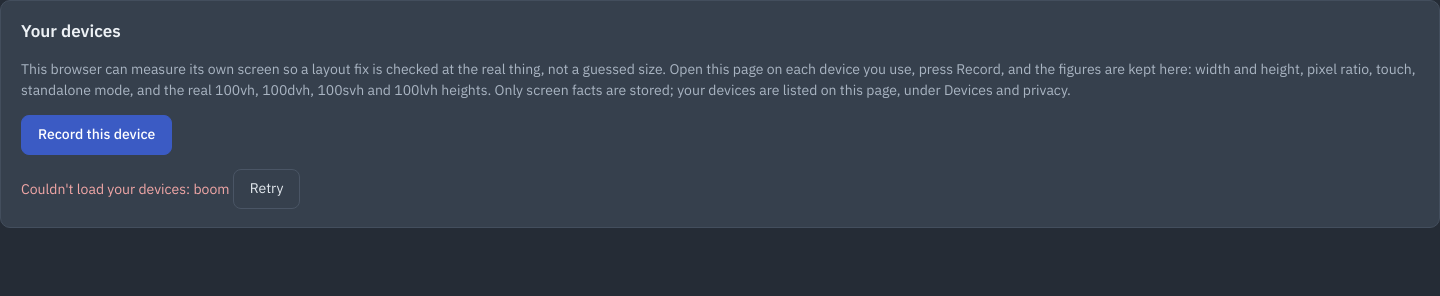
Devices settings › after a failed load shows Retry, not 'none recorded', and Retry shows the devices
Step 1. Click the button "Retry" → x=267, y=188, box [233,168,300,208]
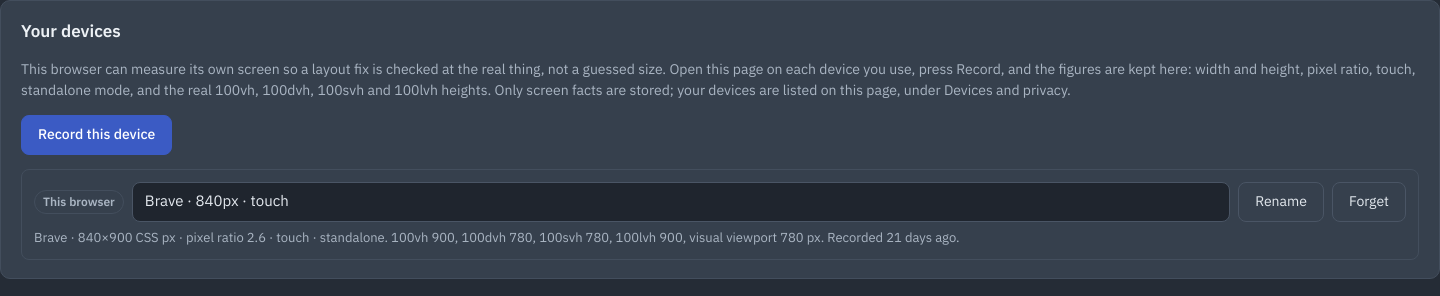
Check: the text "100dvh 780" is shown, box [34,228,960,246]
